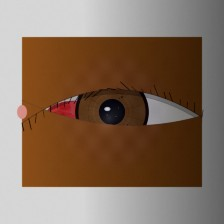hemorrhage_spot: (34, 83, 116, 149)
